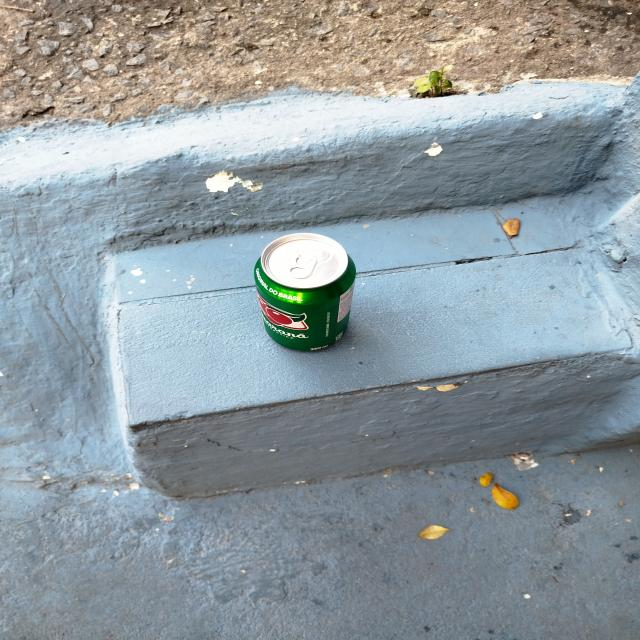Guarana: (253, 232, 357, 351)
